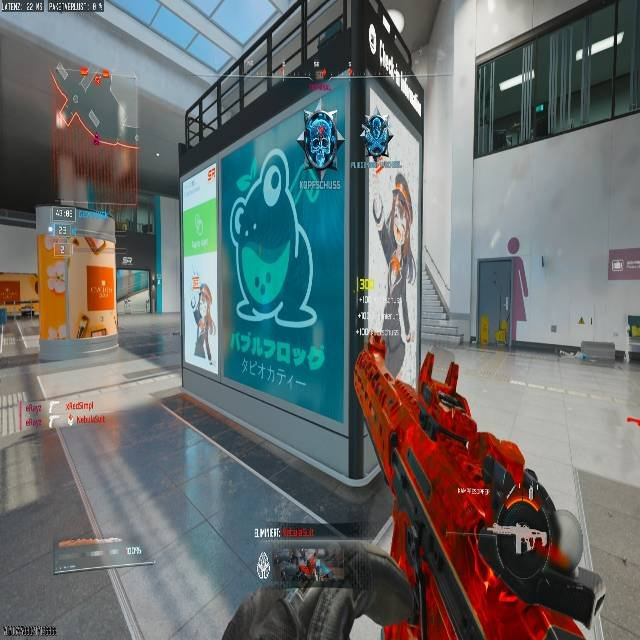player: (77, 314, 88, 337)
